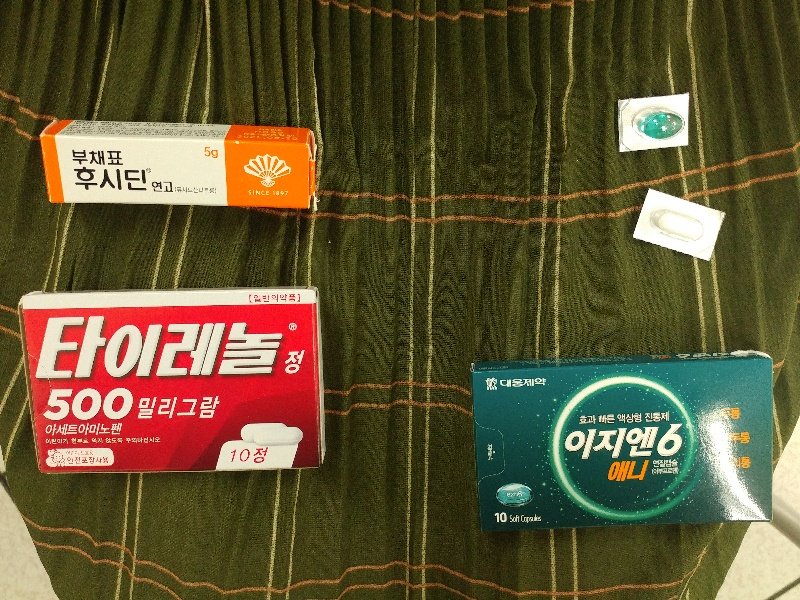ezn: (468, 360, 769, 528)
fucidin: (48, 137, 309, 206)
pill_ezn: (621, 98, 691, 150)
pill_tylenol: (632, 188, 727, 262)
tylenol: (20, 290, 329, 471)
